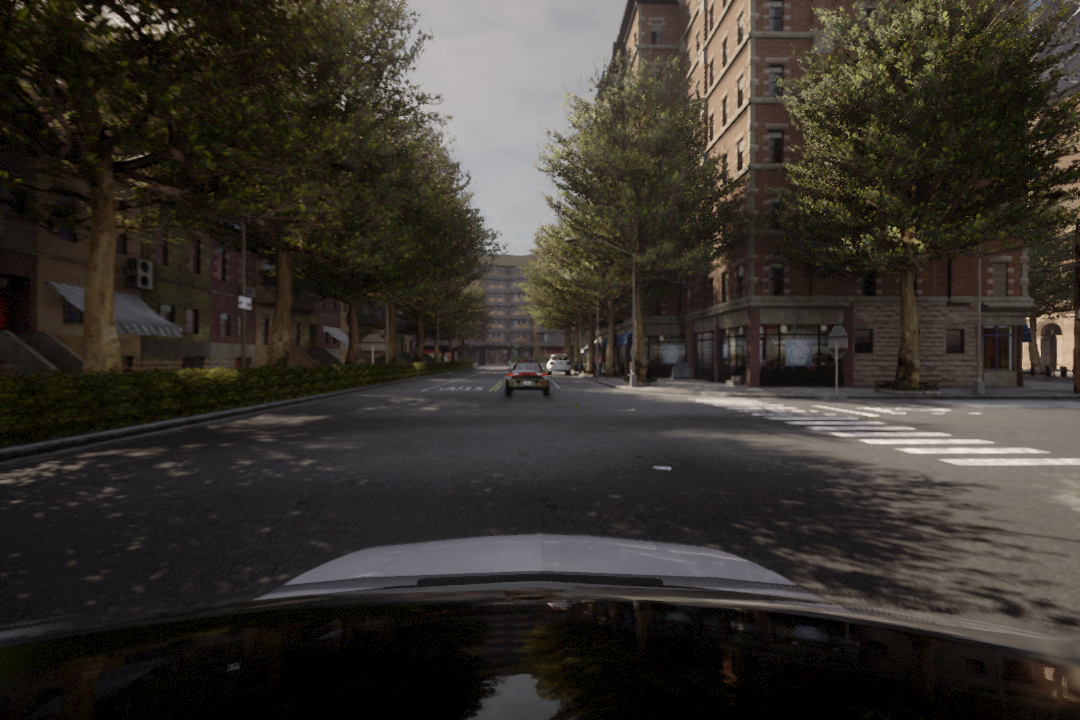walkside: (691, 397, 1080, 480)
